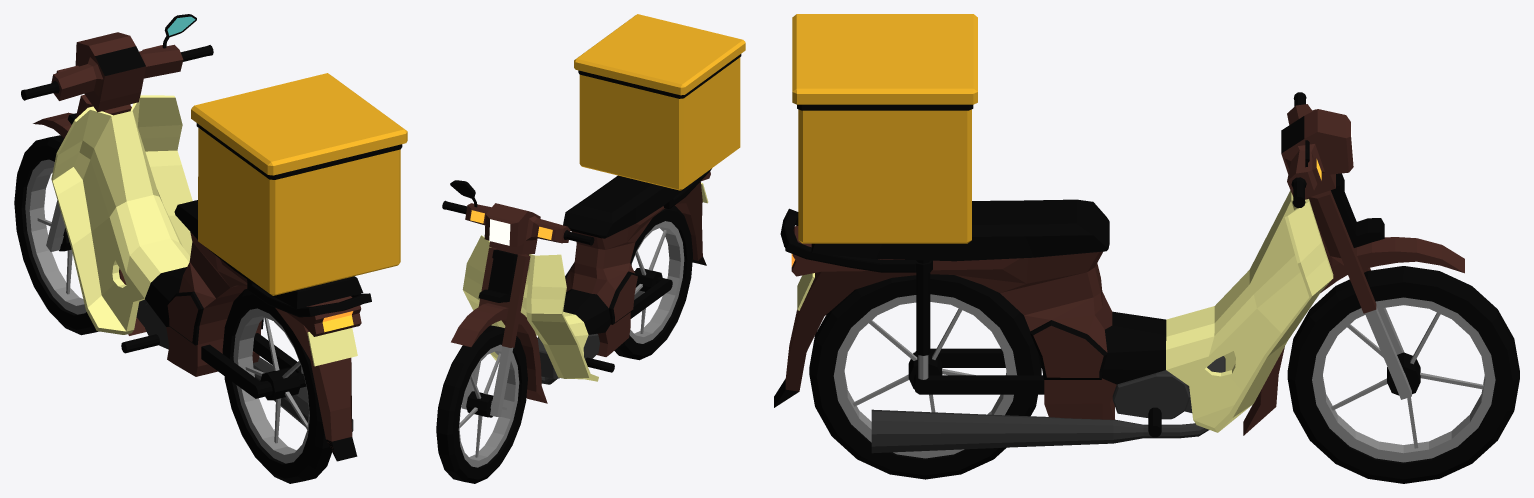
File: Dream.glb
The picture shows the model from 3 angles, left to right: view 1: azimuth 30°, elevation 25°; view 2: azimuth 150°, elevation 25°; view 3: azimuth 270°, elevation 25°; orthographic projection. The views are drawn at different scales.
Visible parts, largest first — view 1: Than, Thung, BanhSau, TayLai, BanhTruoc; view 2: Thung, Than, TayLai, BanhTruoc, BanhSau; view 3: Than, Thung, BanhTruoc, BanhSau, TayLai.
Part boxes in pixels (x1,y1,x2,y2): Than: (51,95,371,461); Thung: (191,73,407,295); BanhSau: (222,289,331,483); TayLai: (21,14,213,335); BanhTruoc: (14,135,98,335); Thung: (574,14,745,190); Than: (462,168,711,384); TayLai: (442,180,594,416); BanhTruoc: (436,325,527,483); BanhSau: (614,205,692,360); Than: (774,190,1333,453); Thung: (792,14,977,243); BanhTruoc: (1287,266,1519,483); BanhSau: (809,274,1041,479); TayLai: (1243,92,1464,435).
Size of the model in its own units: 2.09 by 3.99 by 6.28.
